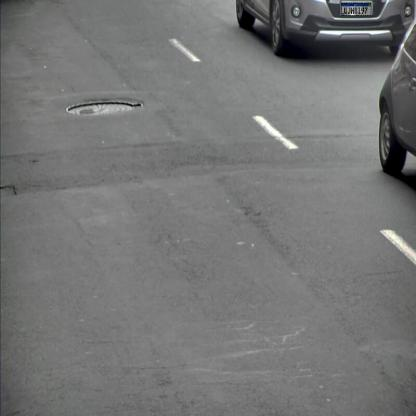PlacaM: (341, 3, 371, 16)
